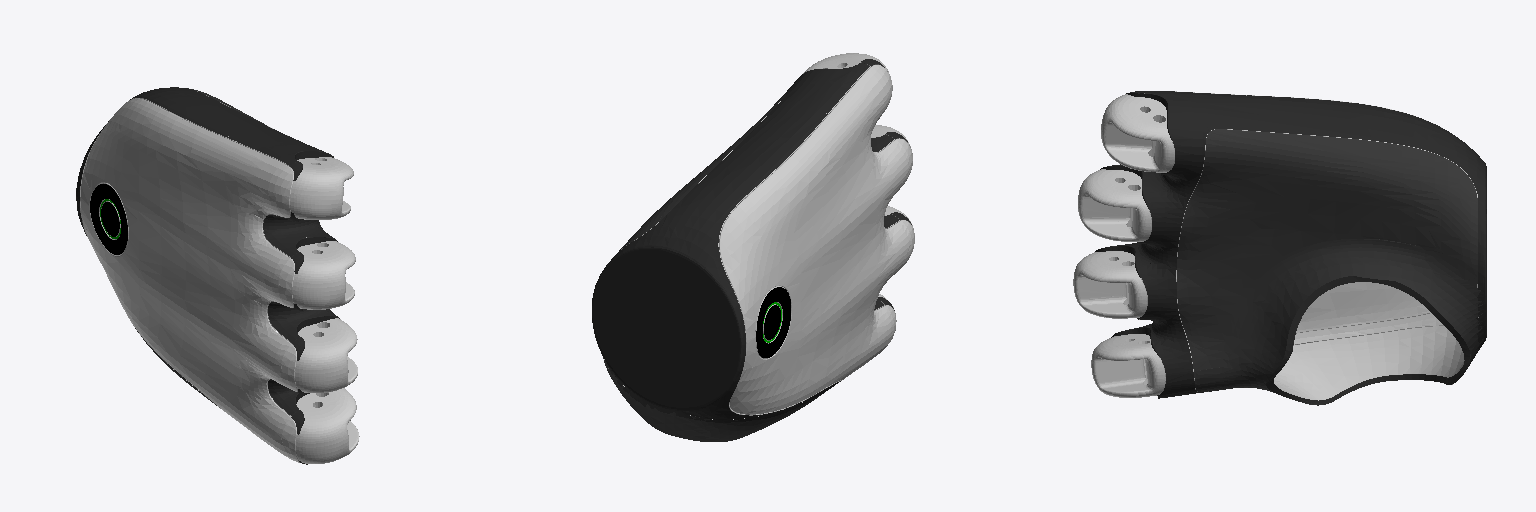
3 renders of one model, left to right at view 1: azimuth 30°, elevation 25°; view 2: azimuth 150°, elevation 25°; view 3: azimuth 270°, elevation 25°, orthographic.
Visible parts, largest first — view 1: base_link; view 2: base_link; view 3: base_link.
Boxes of the visible parts, x1,y1,x2,y2 form: base_link: [76, 87, 359, 464]; base_link: [592, 53, 914, 441]; base_link: [1073, 91, 1486, 405].
Bounding box in the file's own units: 0.0409 × 0.0759 × 0.0945.